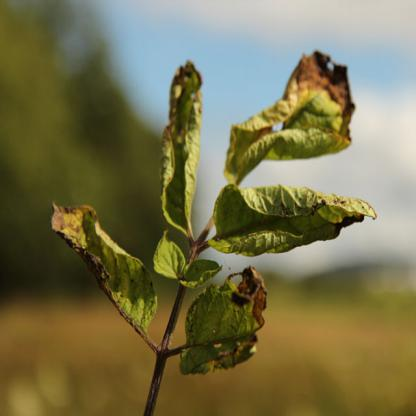potato leaf early blight: (227, 44, 358, 181), (48, 197, 157, 335), (175, 268, 272, 379), (155, 59, 206, 231)
